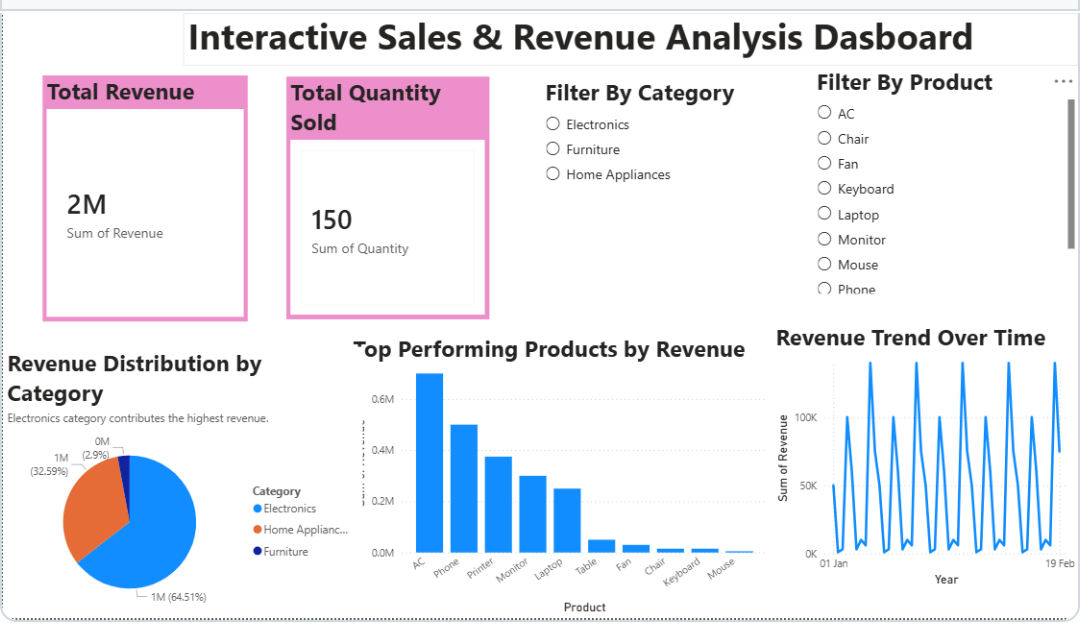

What the dashboard file says about the page in this screenshot:
{"tool":"powerbi","page":{"name":"Page 1","canvas":[1280,720],"ordinal":0},"visuals":[{"type":"lineChart","title":"Revenue Trend Over Time","fields":{"Y":["Sum(SalesData.Revenue)"],"Category":["SalesData.Date.Variation.Date Hierarchy.Year","SalesData.Date.Variation.Date Hierarchy.Quarter","SalesData.Date.Variation.Date Hierarchy.Month","SalesData.Date.Variation.Date Hierarchy.Day"]},"box":[914.3,367.1,365.7,320],"z":0},{"type":"clusteredColumnChart","title":"Top Performing Products by Revenue","fields":{"Category":["SalesData.Product"],"Y":["Sum(SalesData.Revenue)"]},"box":[411.4,380,502.9,340],"z":1},{"type":"pieChart","title":"Revenue Distribution by Category","fields":{"Category":["SalesData.Category"],"Y":["Sum(SalesData.Revenue)"]},"box":[0,396.7,427.8,323.3],"z":2},{"type":"cardVisual","title":"Total Revenue","fields":{"Data":["Sum(SalesData.Revenue)"]},"box":[47.1,74.3,244.3,292.9],"z":3},{"type":"cardVisual","title":"Total Quantity Sold","fields":{"Data":["Sum(SalesData.Quantity)"]},"box":[337.1,75.7,241.4,288.6],"z":4},{"type":"listSlicer","title":" Filter By  Product ","fields":{"Values":["SalesData.Product"]},"box":[962.9,62.9,317.1,277.1],"z":6},{"type":"listSlicer","title":"Filter By Category","fields":{"Values":["SalesData.Category"]},"box":[640,75.7,252.9,284.3],"z":7},{"type":"textbox","title":"Interactive Sales & Revenue Analysis Dasboard","box":[214.3,0,1065.7,62.9],"z":8}]}

Visuals, with their boxes in screenshot pixels (x1, y1, x2, y2):
"Revenue Trend Over Time" lineChart: <bbox>829, 334, 1079, 591</bbox>
"Top Performing Products by Revenue" clusteredColumnChart: <bbox>426, 344, 829, 617</bbox>
"Revenue Distribution by Category" pieChart: <bbox>96, 358, 439, 617</bbox>
"Total Revenue" cardVisual: <bbox>133, 99, 329, 334</bbox>
"Total Quantity Sold" cardVisual: <bbox>366, 100, 560, 332</bbox>
" Filter By  Product " listSlicer: <bbox>868, 90, 1079, 312</bbox>
"Filter By Category" listSlicer: <bbox>609, 100, 812, 328</bbox>
"Interactive Sales & Revenue Analysis Dasboard" textbox: <bbox>268, 39, 1079, 90</bbox>
